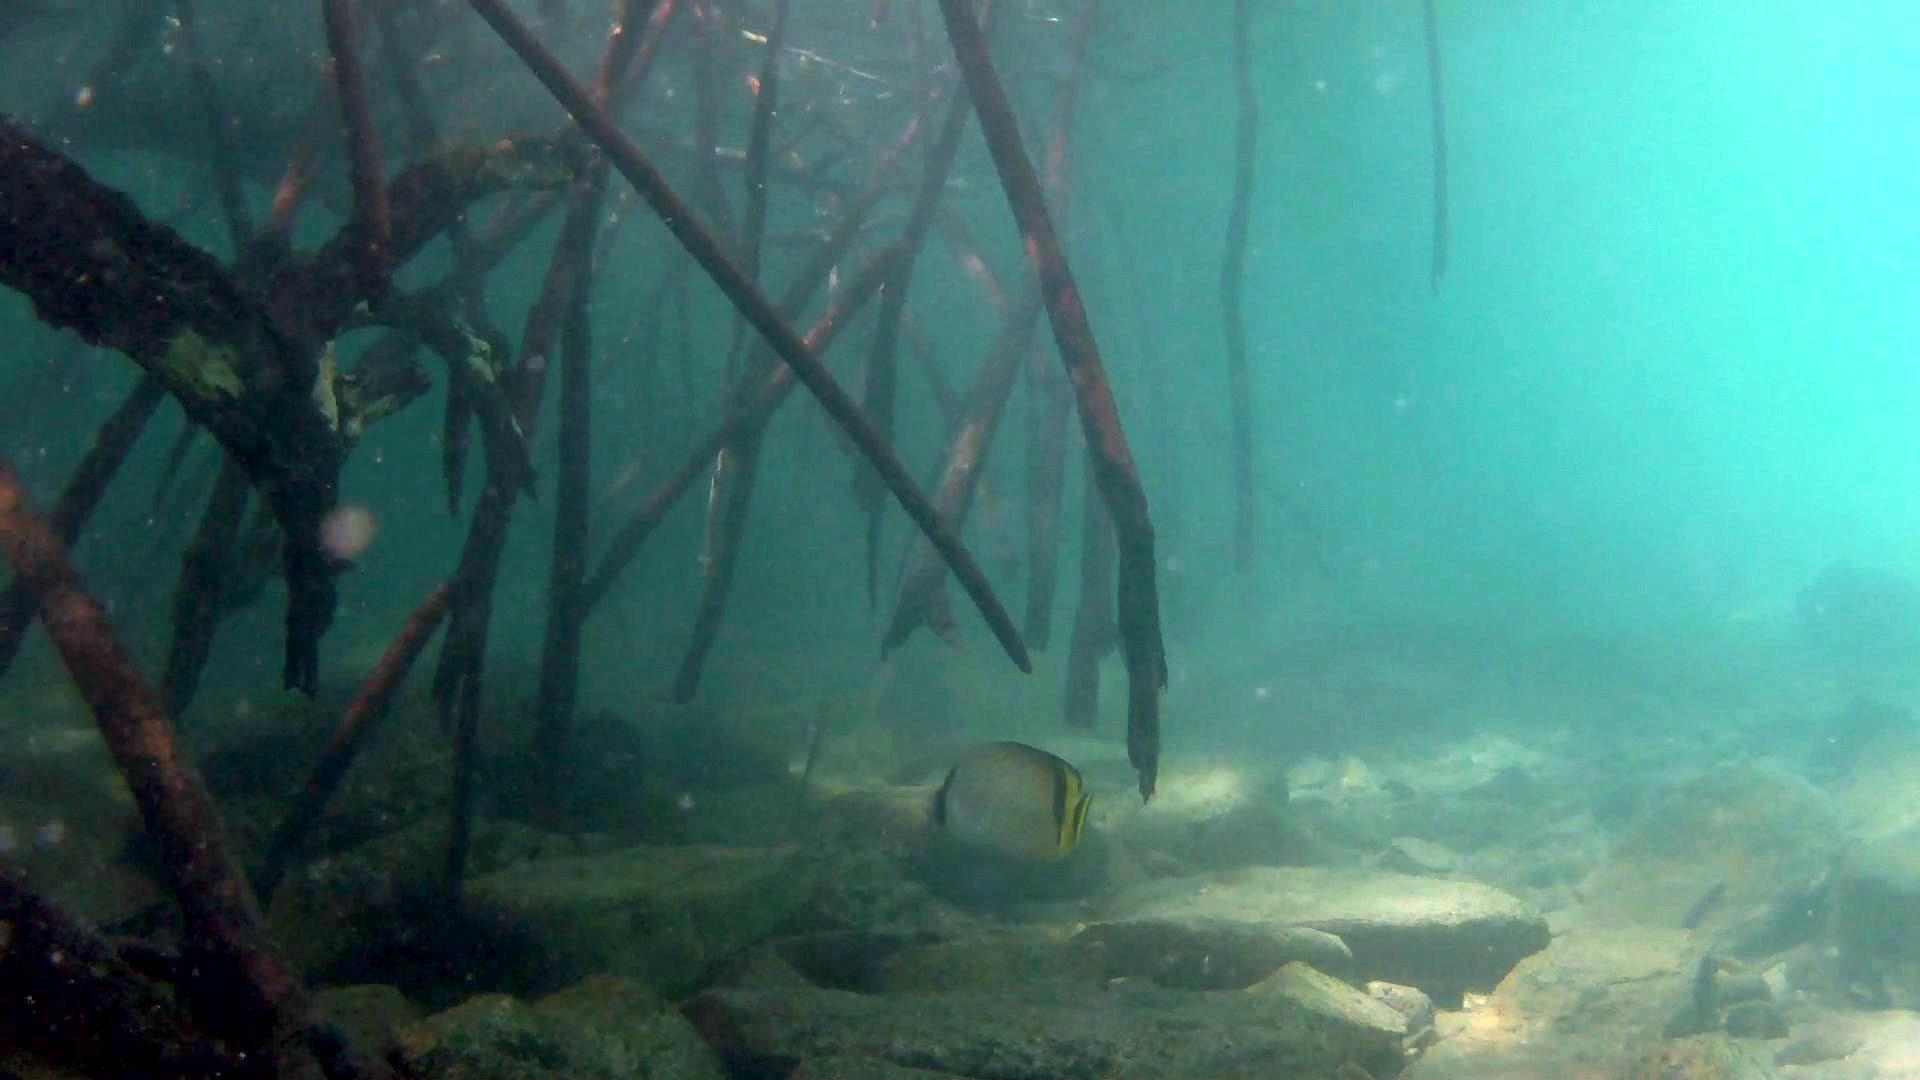chaetodon vagabundus: (910, 738, 1097, 864)
